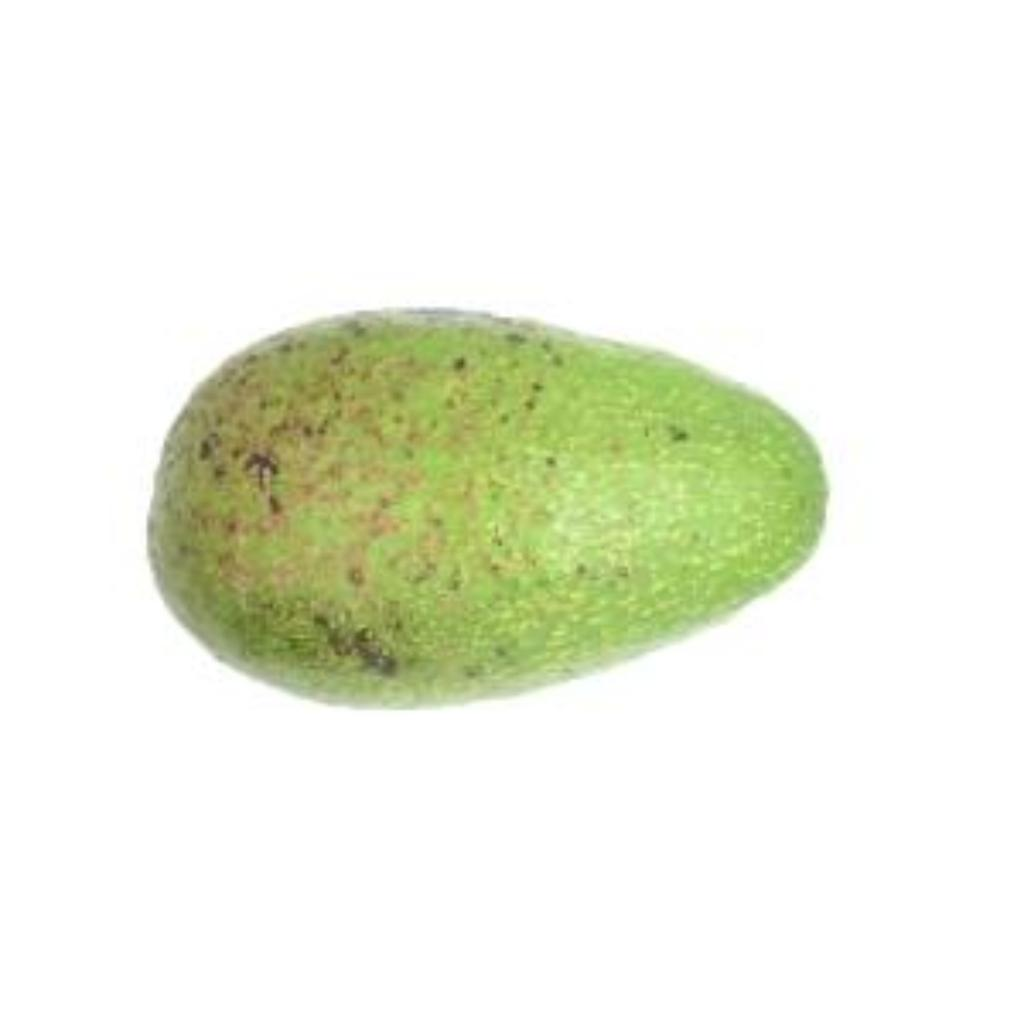cercospora: (124, 284, 861, 711)
